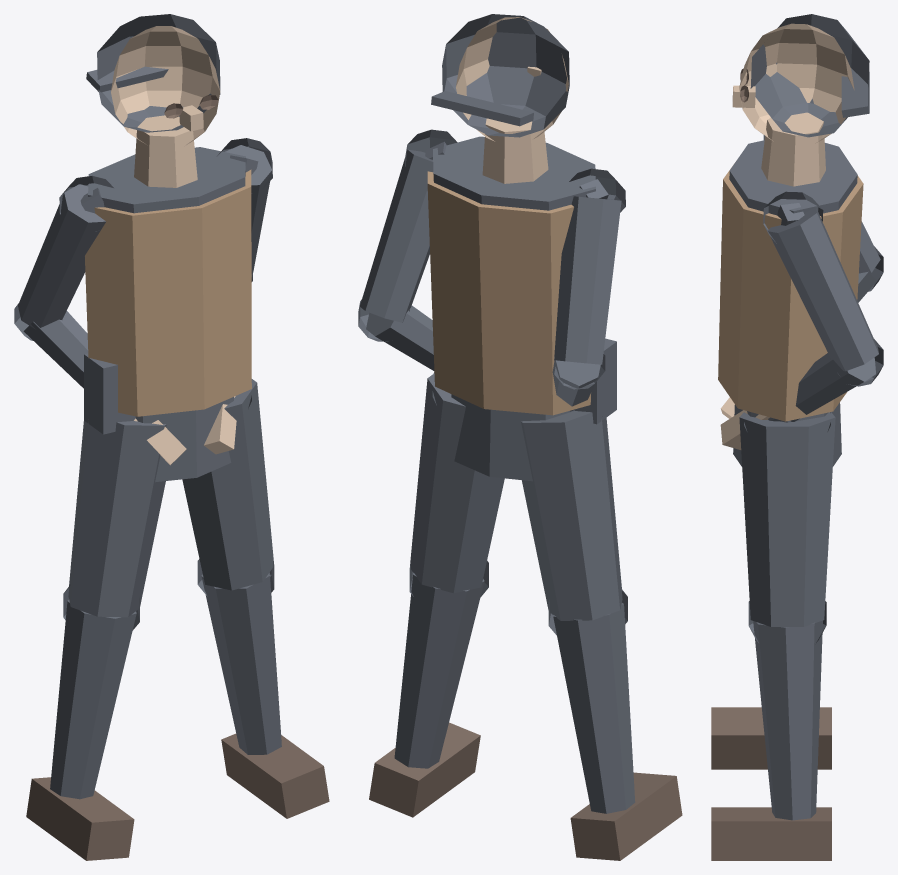
Rendered from low-poly-character-figures-soldier-standing-at-ease-d4abaeb5__36366.glb.
3 renders of one model, left to right at view 1: azimuth 30°, elevation 25°; view 2: azimuth 150°, elevation 25°; view 3: azimuth 270°, elevation 25°, orthographic. The views are drawn at different scales.
Visible parts, largest first — view 1: soldier-standing-at-ease; view 2: soldier-standing-at-ease; view 3: soldier-standing-at-ease.
Boxes of the visible parts, x1,y1,x2,y2 form: soldier-standing-at-ease: (14, 14, 329, 860); soldier-standing-at-ease: (358, 14, 682, 860); soldier-standing-at-ease: (711, 14, 883, 860).
Bounding box in the file's own units: 0.5723 × 1.76 × 0.3496.
